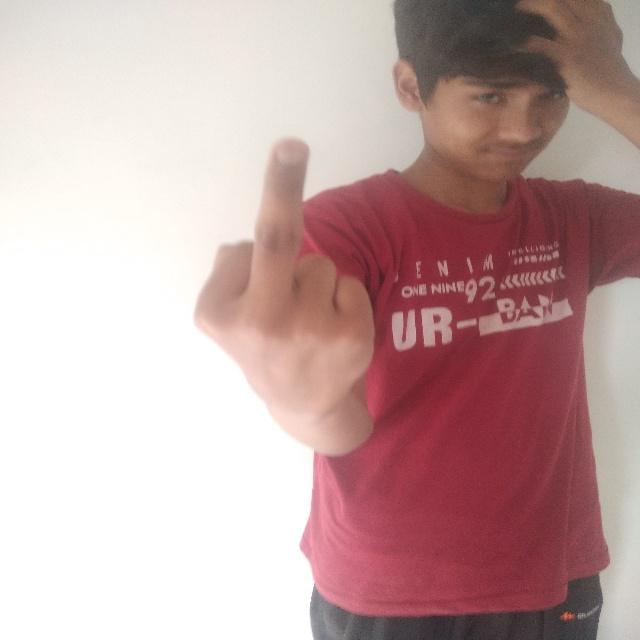Middle Finger: (189, 132, 388, 434)
